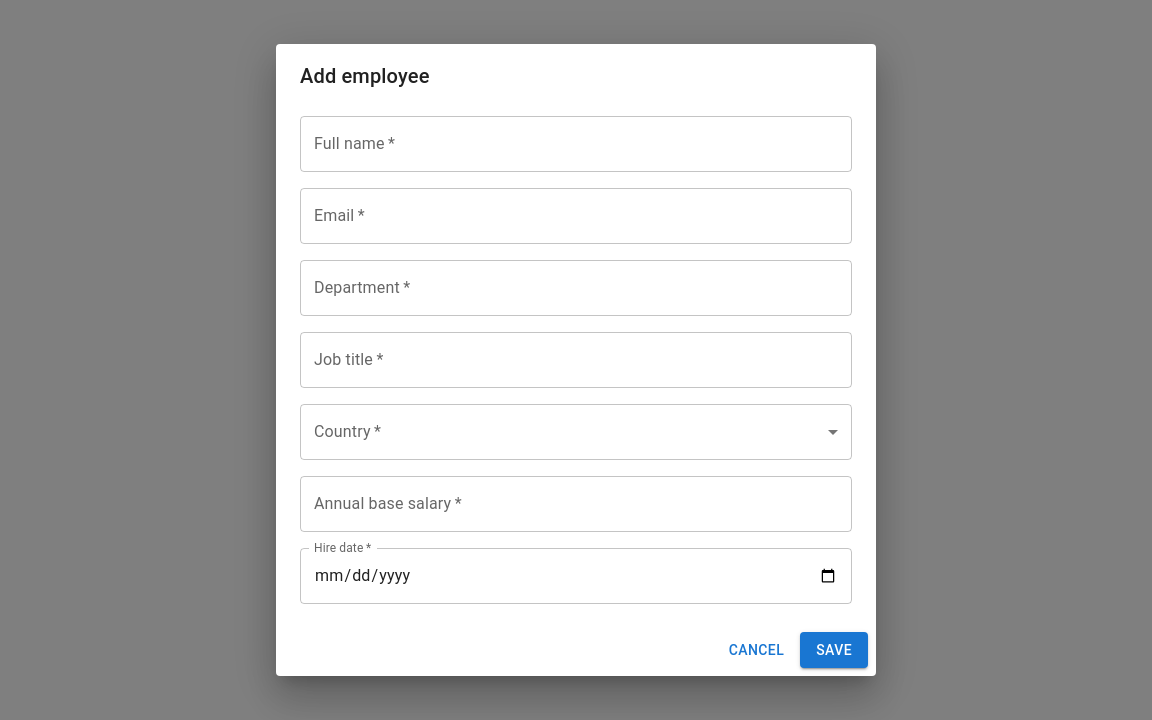
Test case: EmployeeFormDialog › shows the currency of the chosen country next to the salary
The width and height of the screenshot is (1152, 720).
Click the dropdown named "Country" at (576, 432), box [300,404,852,460]
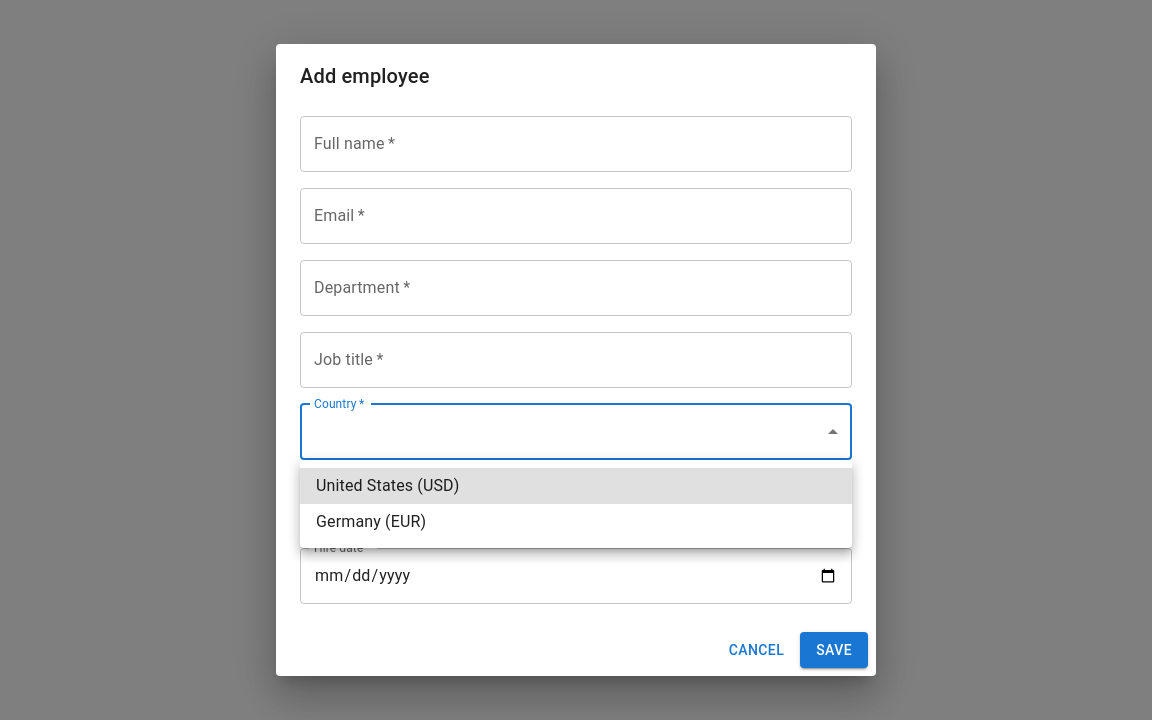
Click the option "Germany (EUR)" at (371, 522), box [316,512,426,531]
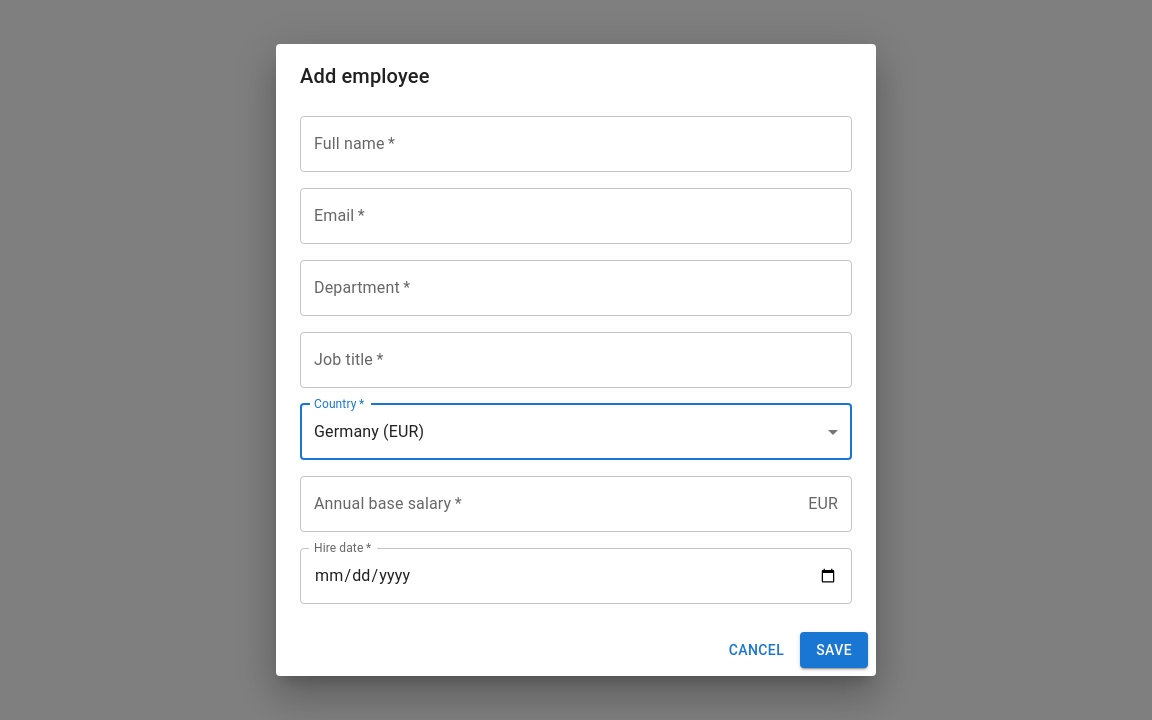
Check: the text "EUR" is shown, box [808,492,838,516]
